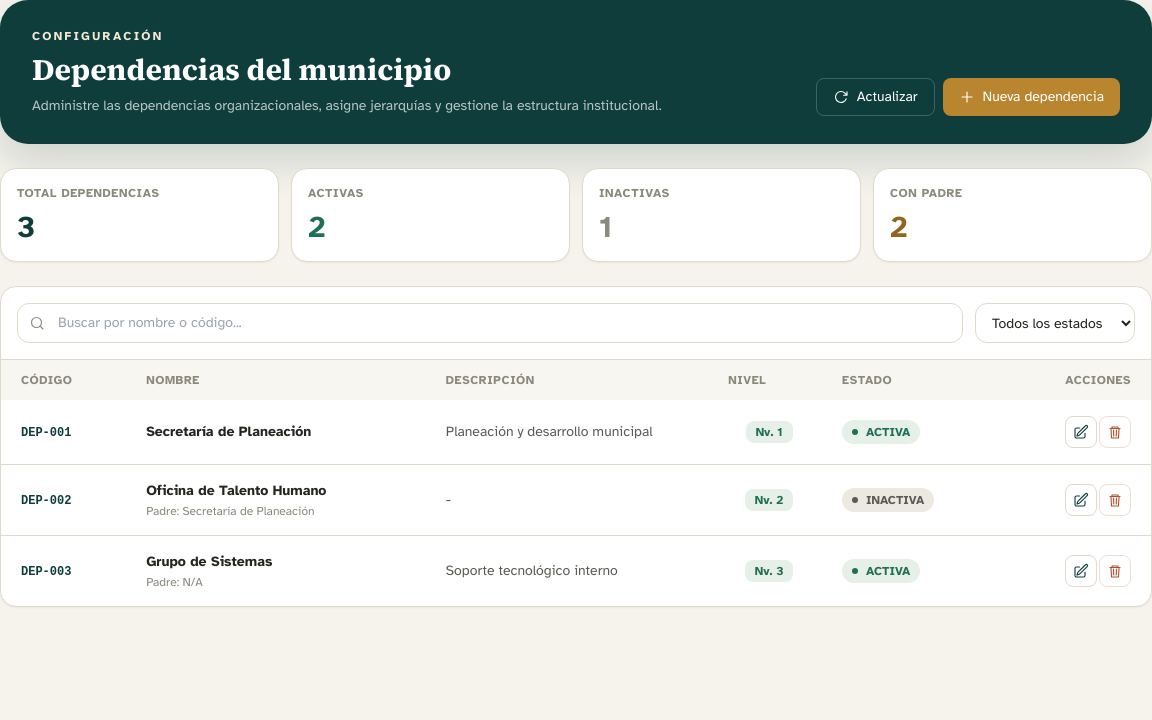
Test case: DependenciasPage › muestra el mensaje genérico cuando el error no trae detalle
This screenshot has width=1152, height=720.
Click the button "Nueva dependencia" at (1031, 97), box [942,78,1120,116]
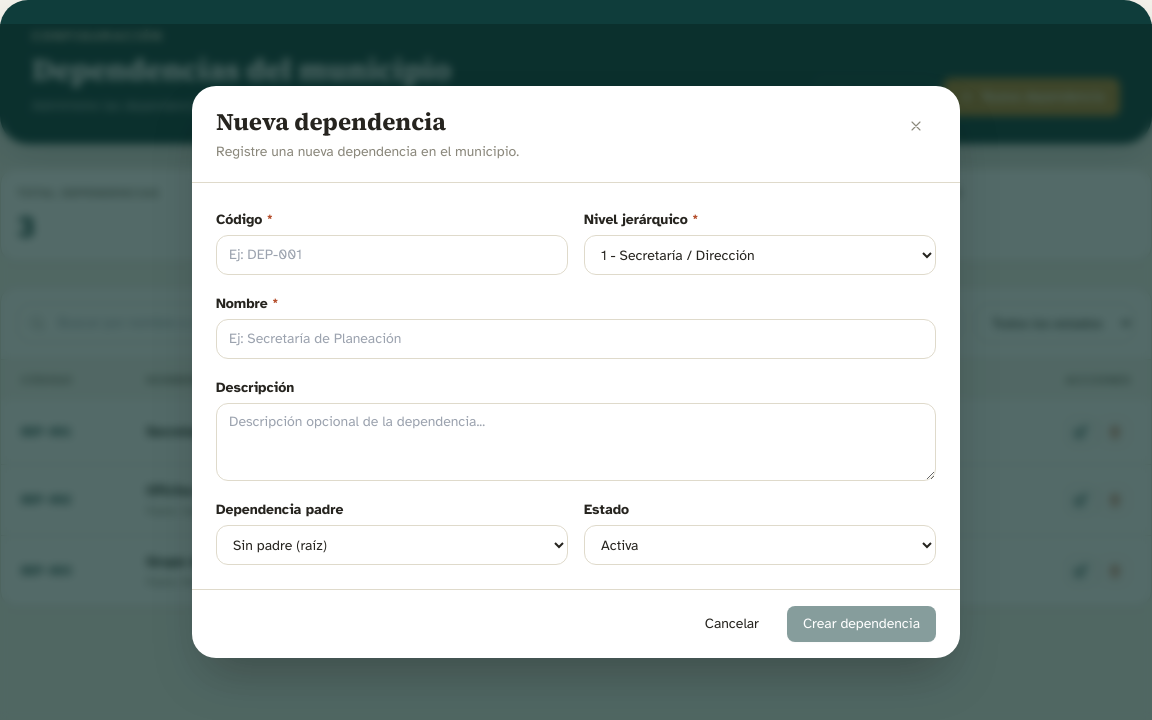
Type "DEP-099" into the field with placeholder "Ej: DEP-001" at (392, 255), box [216,235,568,275]
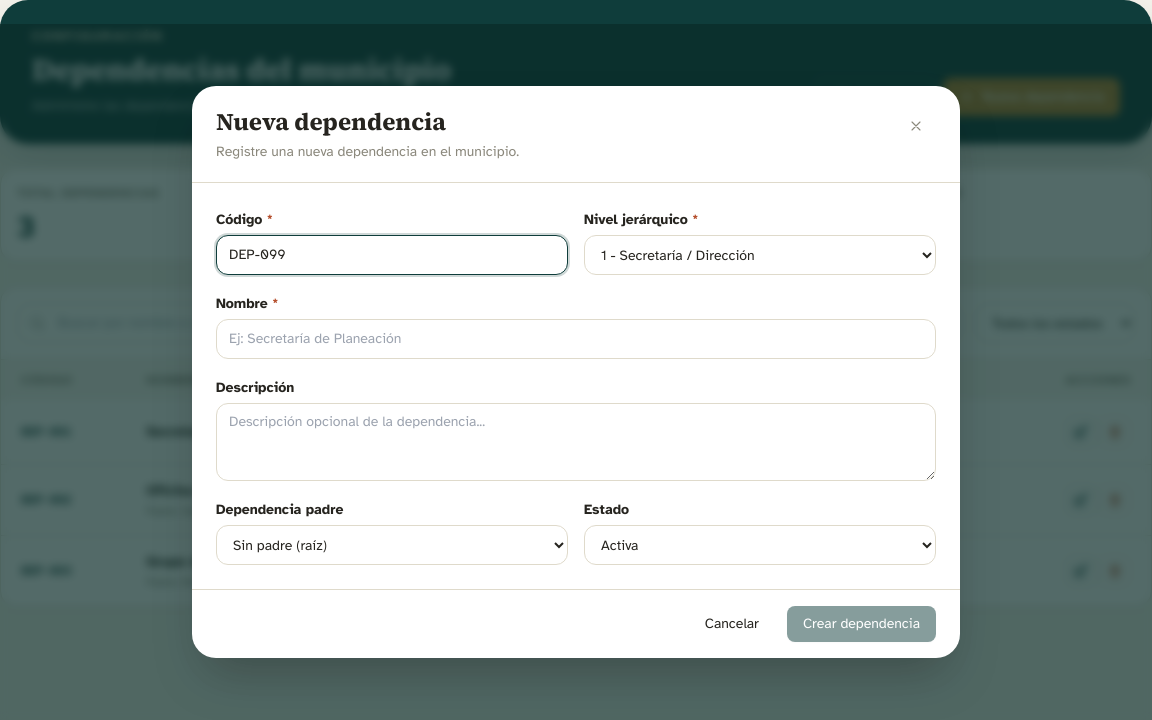
Type "Oficina de Pruebas" into the field with placeholder "Ej: Secretaría de Planeación" at (576, 339), box [216,319,936,359]
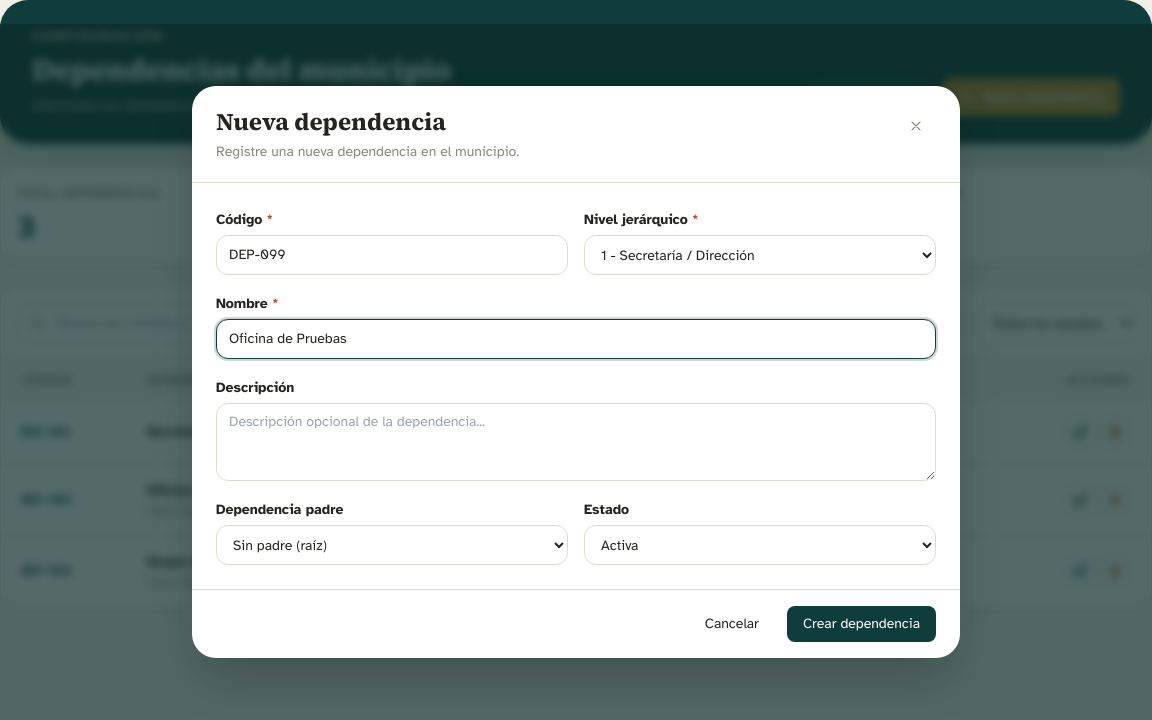
Click the button "Crear dependencia" at (861, 624), box [787,606,936,642]
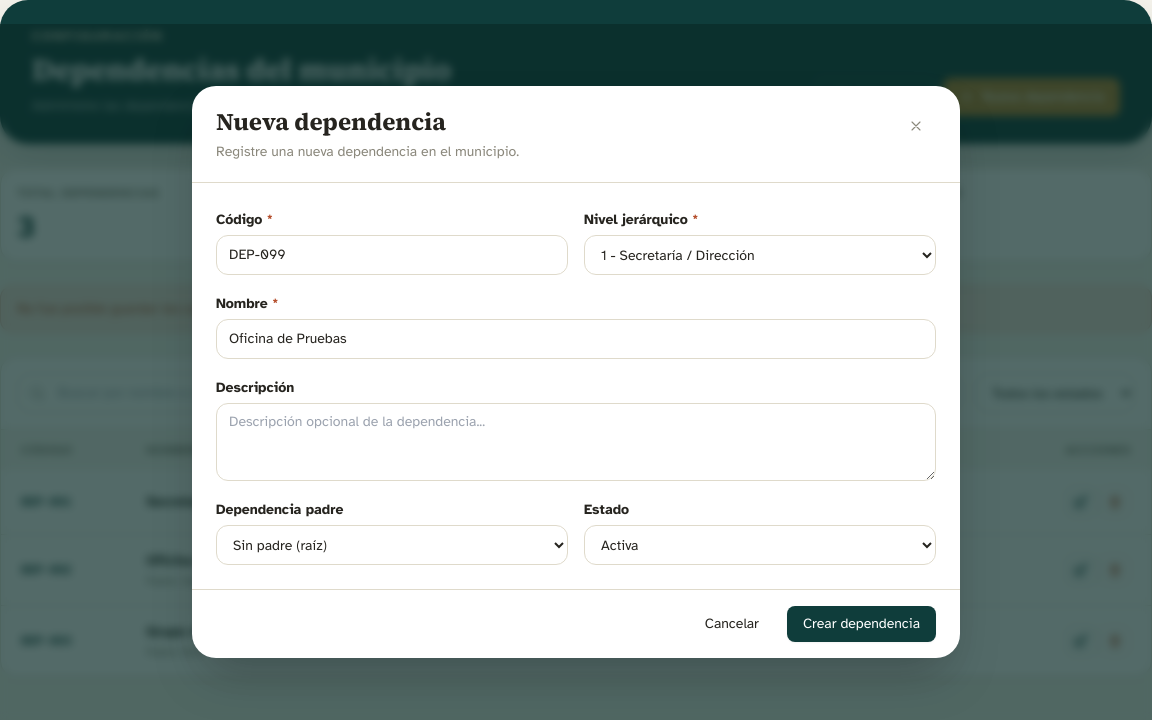
Expected: the message reads "No fue posible guardar los cambios.", [17,300,239,317]
